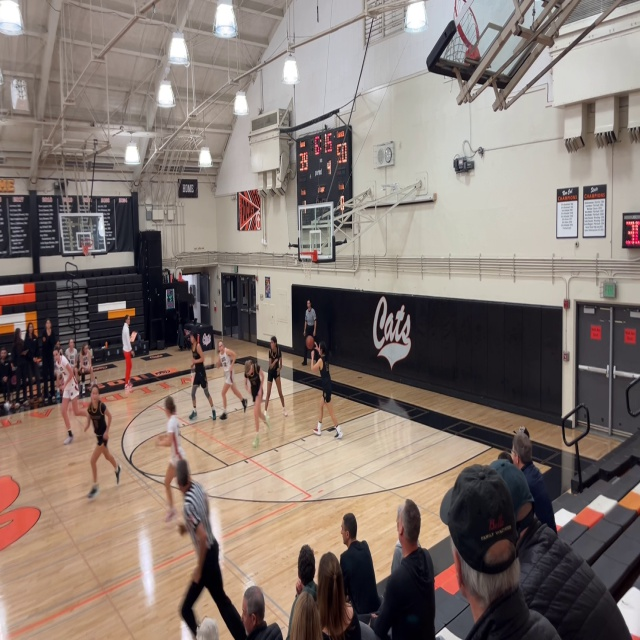Basketball: (305, 336, 315, 350)
